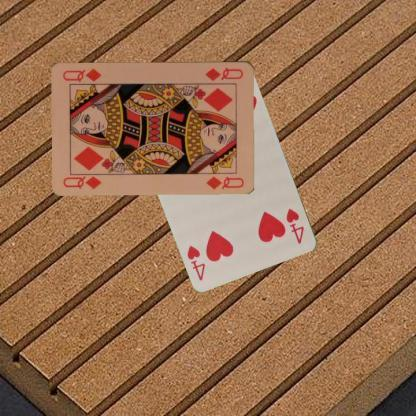4h: (284, 206, 306, 246)
Qd: (61, 171, 106, 190), (203, 64, 245, 82)
